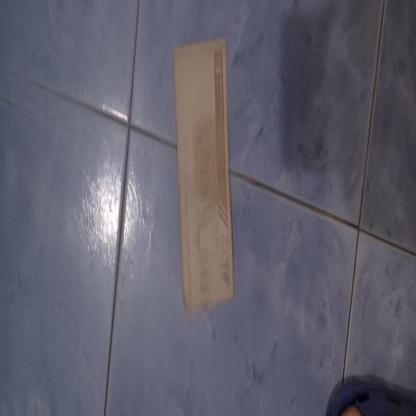five-back-vef: (172, 37, 235, 306)
